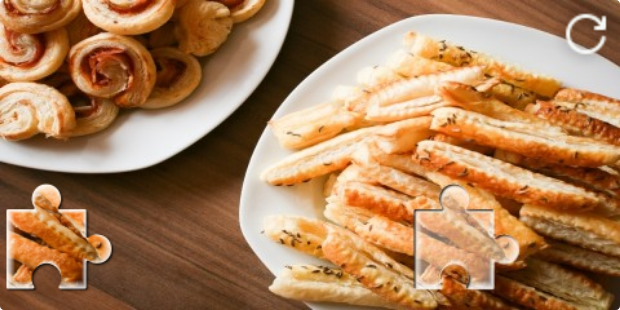target: (414, 184, 520, 290)
